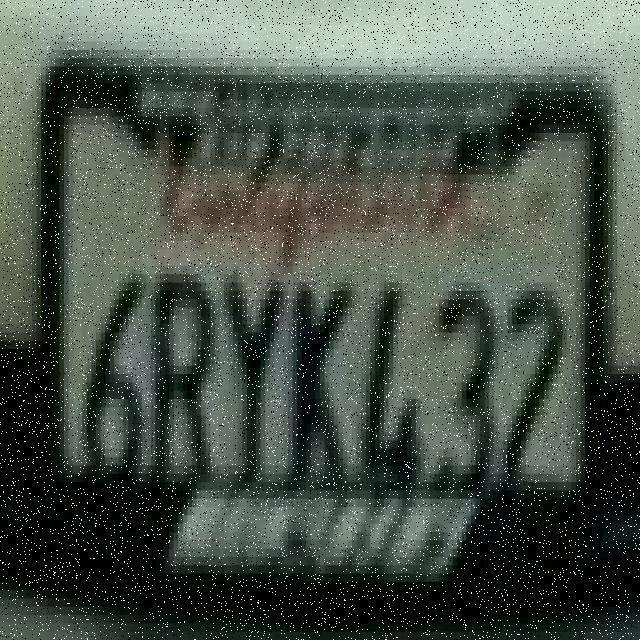License Plate: (36, 36, 624, 532)
